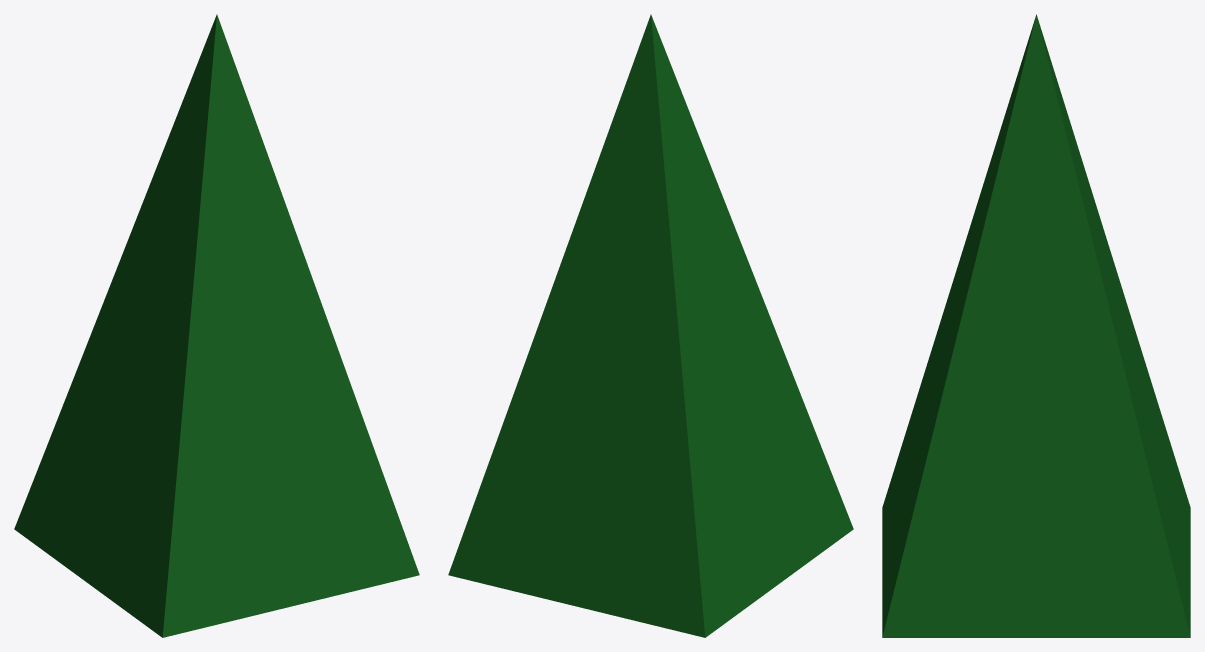
File: TREE.fbx
3 views of the same model, side by side, from view 1: azimuth 30°, elevation 25°; view 2: azimuth 150°, elevation 25°; view 3: azimuth 270°, elevation 25° (orthographic). The views are drawn at different scales.
Visible parts, largest first — view 1: TREE; view 2: TREE; view 3: TREE.
Boxes of the visible parts, x1,y1,x2,y2 form: TREE: (14,14,419,637); TREE: (448,14,853,637); TREE: (882,14,1190,637).
Bounding box in the file's own units: 100 × 200 × 100.
